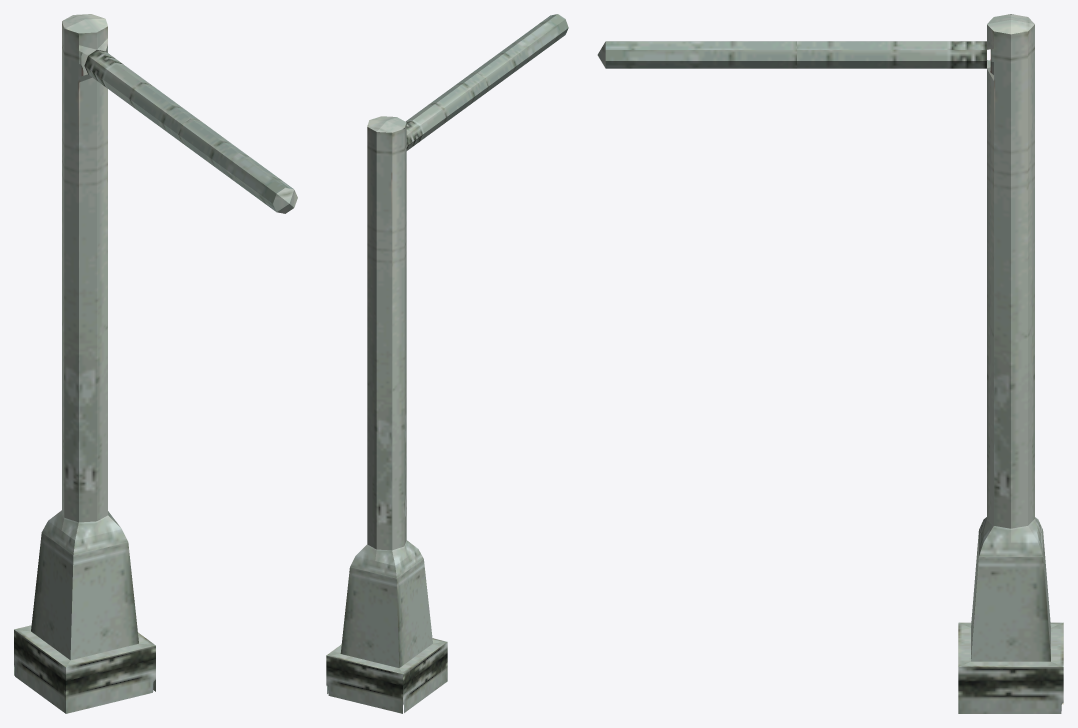
File: traffic_ligh_pole_L.fbx
The picture shows the model from 3 angles, left to right: view 1: azimuth 30°, elevation 25°; view 2: azimuth 150°, elevation 25°; view 3: azimuth 270°, elevation 25°; orthographic projection. The views are drawn at different scales.
Parts seen in each view (by area): view 1: traffic_ligh_pole_L; view 2: traffic_ligh_pole_L; view 3: traffic_ligh_pole_L.
Part boxes in pixels (bbox=[...]): traffic_ligh_pole_L: bbox=[14, 14, 297, 713]; traffic_ligh_pole_L: bbox=[326, 14, 568, 713]; traffic_ligh_pole_L: bbox=[597, 14, 1063, 713].
Bounding box in the file's own units: 80.32 × 566 × 356.
1 material, 1 textured.
